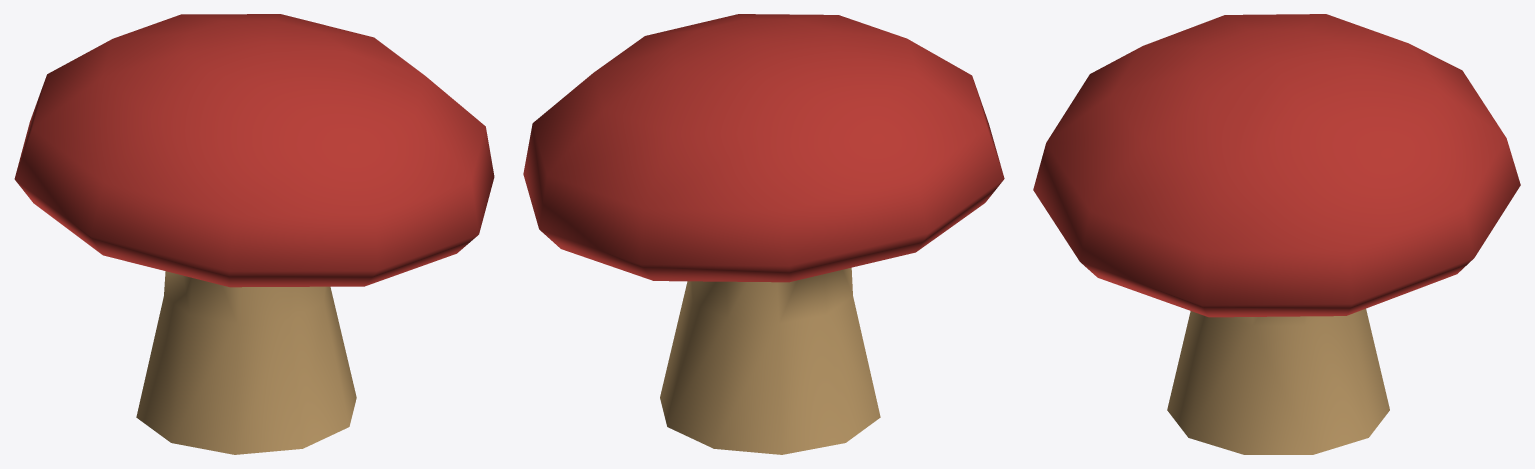
The model's file is mushrum color.fbx.
The picture shows the model from 3 angles, left to right: view 1: azimuth 30°, elevation 25°; view 2: azimuth 150°, elevation 25°; view 3: azimuth 270°, elevation 25°; orthographic projection.
Parts seen in each view (by area): view 1: Red_Mushroom, Red_Mushroom .001; view 2: Red_Mushroom, Red_Mushroom .001; view 3: Red_Mushroom, Red_Mushroom .001.
Part boxes in pixels (left/top/right/bottom): Red_Mushroom: left=14, top=14, right=494, bottom=287; Red_Mushroom .001: left=136, top=271, right=356, bottom=454; Red_Mushroom: left=523, top=14, right=1004, bottom=282; Red_Mushroom .001: left=660, top=267, right=880, bottom=454; Red_Mushroom: left=1033, top=14, right=1520, bottom=317; Red_Mushroom .001: left=1167, top=308, right=1389, bottom=454.
Bounding box in the file's own units: 40.12 × 34.18 × 42.35.
